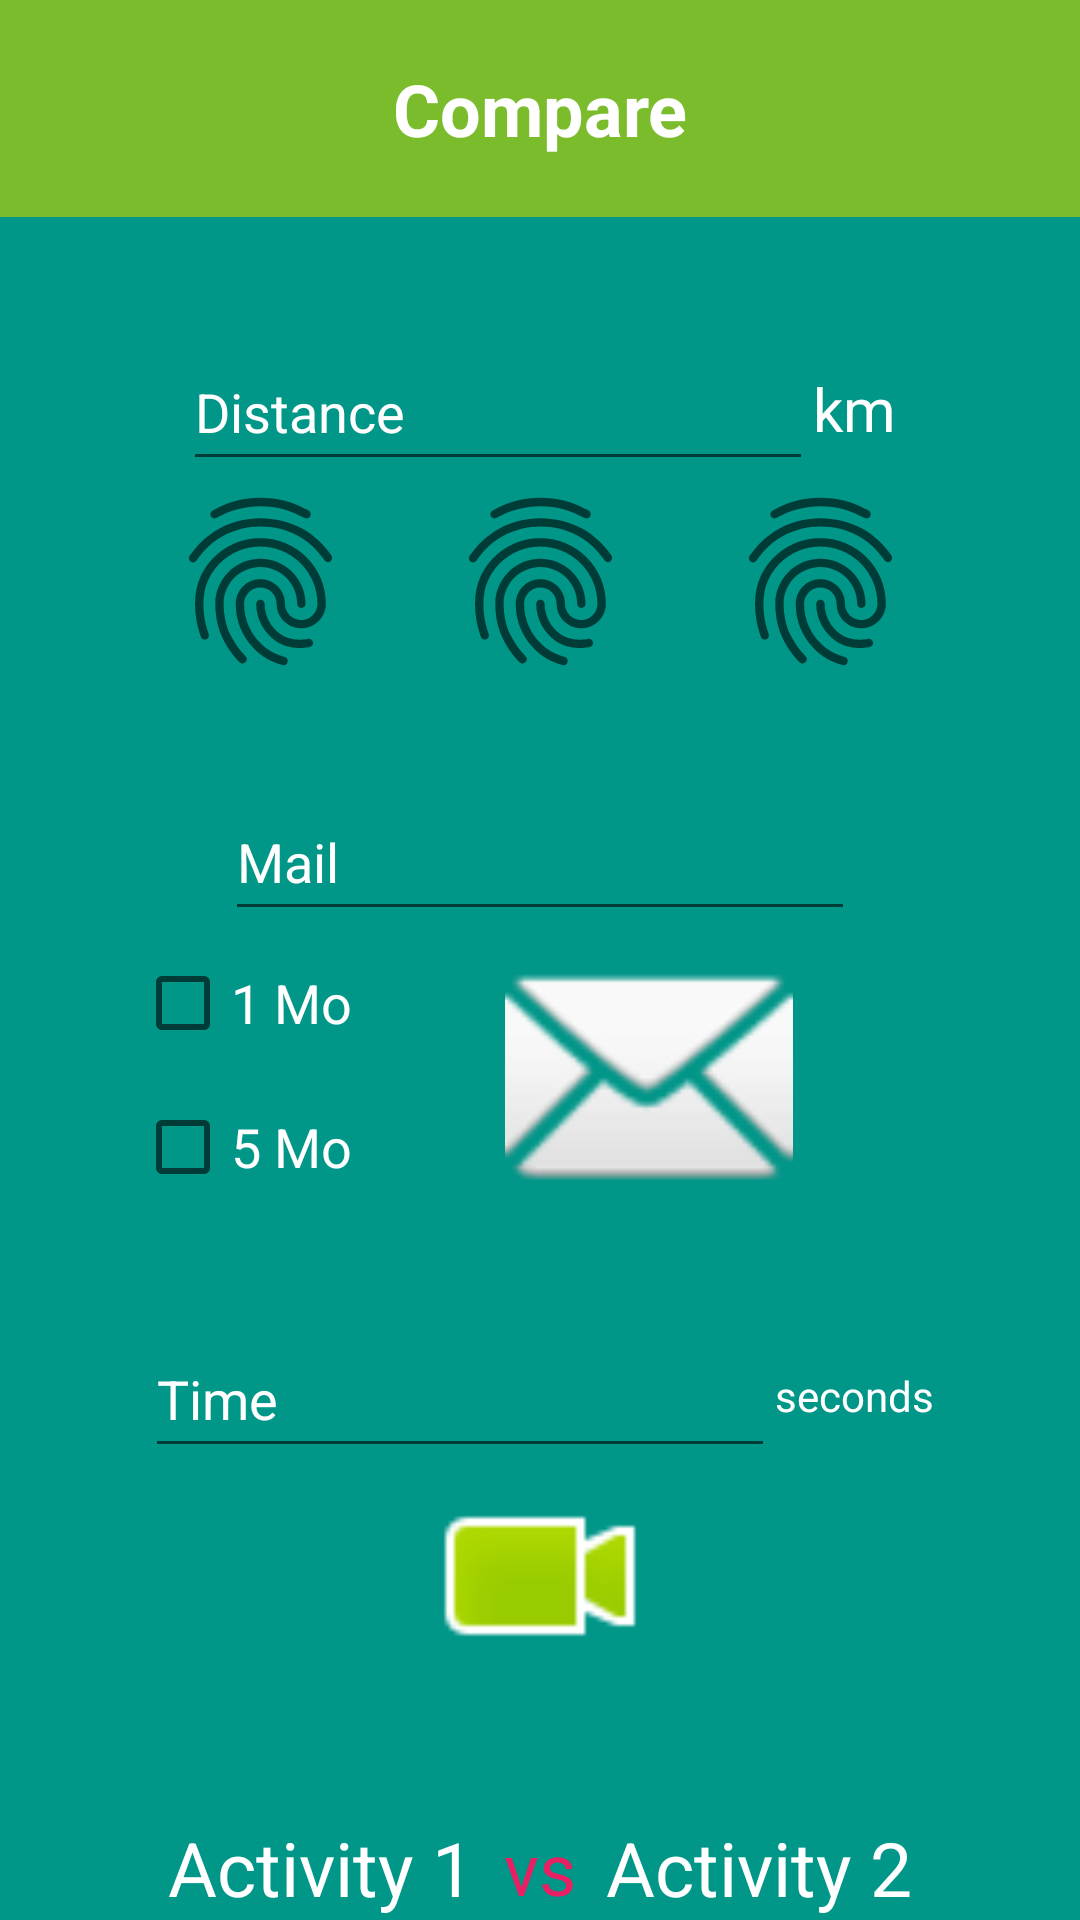

Named icons in this screenshot (1080*1920) and their bounding boxes, (x1,y1,x2,y2):
visio: (444,1516,636,1636)
